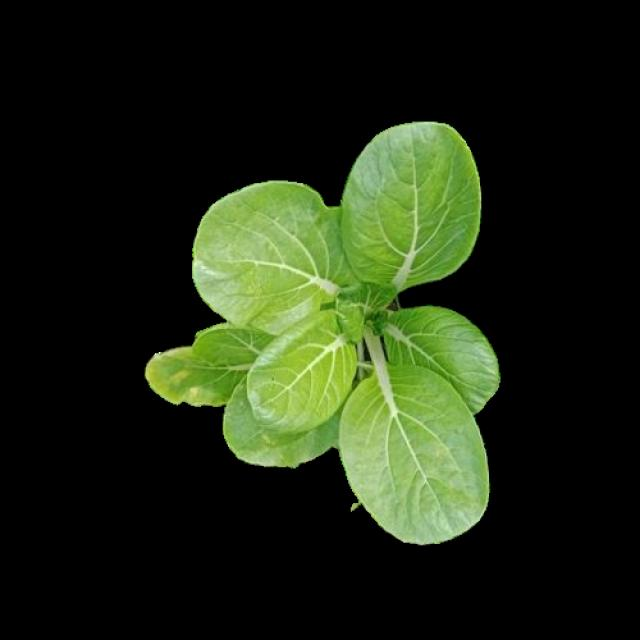not-mature: (146, 124, 503, 545)
unhealthy: (145, 315, 302, 408)
